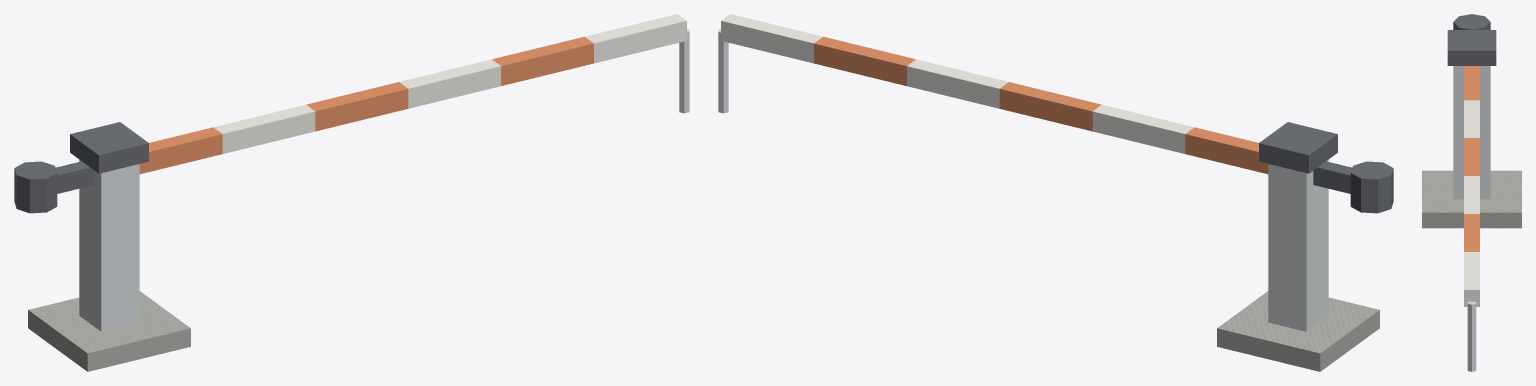
The model's file is caravan-park-and-campsite-entrance-barrier-2a6125c4__35379.glb.
The picture shows the model from 3 angles, left to right: view 1: azimuth 30°, elevation 25°; view 2: azimuth 150°, elevation 25°; view 3: azimuth 270°, elevation 25°; orthographic projection. The views are drawn at different scales.
Visible parts, largest first — view 1: entrance-barrier-galv, arm/shell, arm/flame, entrance-barrier-hard, arm/charcoal, entrance-barrier-charcoal, arm/galv; view 2: entrance-barrier-galv, arm/shell, arm/flame, entrance-barrier-hard, arm/charcoal, entrance-barrier-charcoal, arm/galv; view 3: entrance-barrier-hard, entrance-barrier-galv, arm/shell, entrance-barrier-charcoal, arm/flame, arm/galv, arm/charcoal.
Boxes of the visible parts, box(x1,y1,x2,y2) form: entrance-barrier-galv: box(79, 160, 139, 331); arm/shell: box(213, 14, 686, 153); arm/flame: box(139, 36, 593, 174); entrance-barrier-hard: box(28, 291, 190, 371); arm/charcoal: box(14, 161, 94, 213); entrance-barrier-charcoal: box(70, 122, 148, 173); arm/galv: box(679, 29, 689, 113); entrance-barrier-galv: box(1268, 160, 1328, 331); arm/shell: box(721, 14, 1194, 153); arm/flame: box(814, 36, 1268, 174); entrance-barrier-hard: box(1217, 291, 1379, 371); arm/charcoal: box(1313, 161, 1393, 213); entrance-barrier-charcoal: box(1259, 122, 1337, 173); arm/galv: box(718, 29, 728, 113); entrance-barrier-hard: box(1422, 170, 1521, 228); entrance-barrier-galv: box(1453, 66, 1490, 199); arm/shell: box(1464, 100, 1479, 306); entrance-barrier-charcoal: box(1447, 30, 1496, 65); arm/flame: box(1464, 66, 1479, 251); arm/galv: box(1467, 301, 1476, 371); arm/charcoal: box(1453, 14, 1490, 29).
Size of the model in its own units: 4.57 by 1.29 by 0.7.
Materials: 5 (1 with a texture image).
